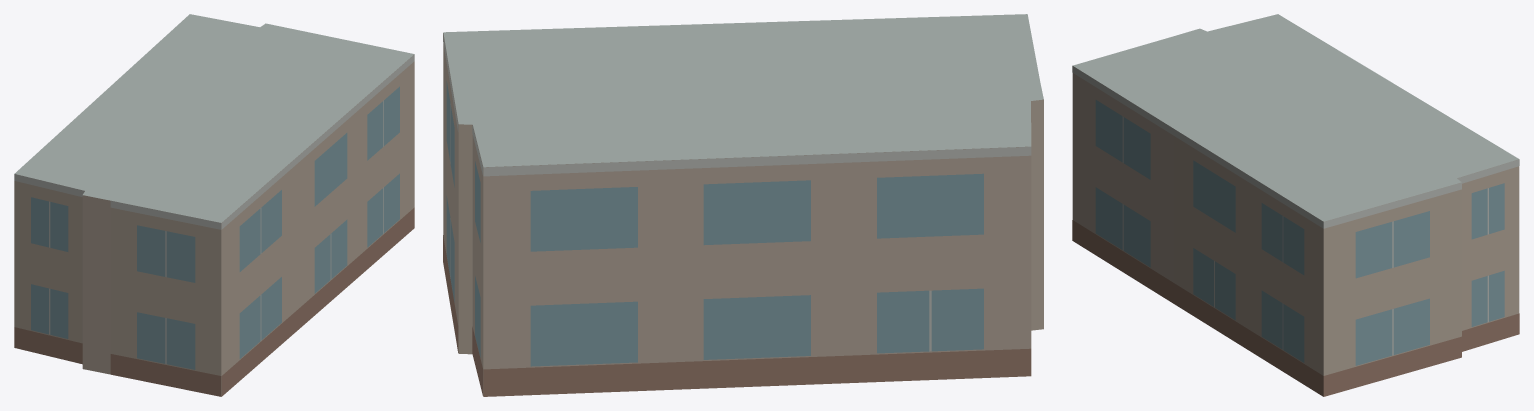
File: survey-upis-32619358.glb
3 renders of one model, left to right at view 1: azimuth 30°, elevation 25°; view 2: azimuth 150°, elevation 25°; view 3: azimuth 270°, elevation 25°, orthographic. The views are drawn at different scales.
Visible parts, largest first — view 1: survey-upis-32619358.tmp; view 2: survey-upis-32619358.tmp; view 3: survey-upis-32619358.tmp.
Part boxes in pixels (bbox=[...]): survey-upis-32619358.tmp: bbox=[14, 14, 414, 396]; survey-upis-32619358.tmp: bbox=[443, 14, 1043, 396]; survey-upis-32619358.tmp: bbox=[1072, 14, 1519, 396].
Size of the model in its own units: 15.53 by 6.1 by 14.12.
